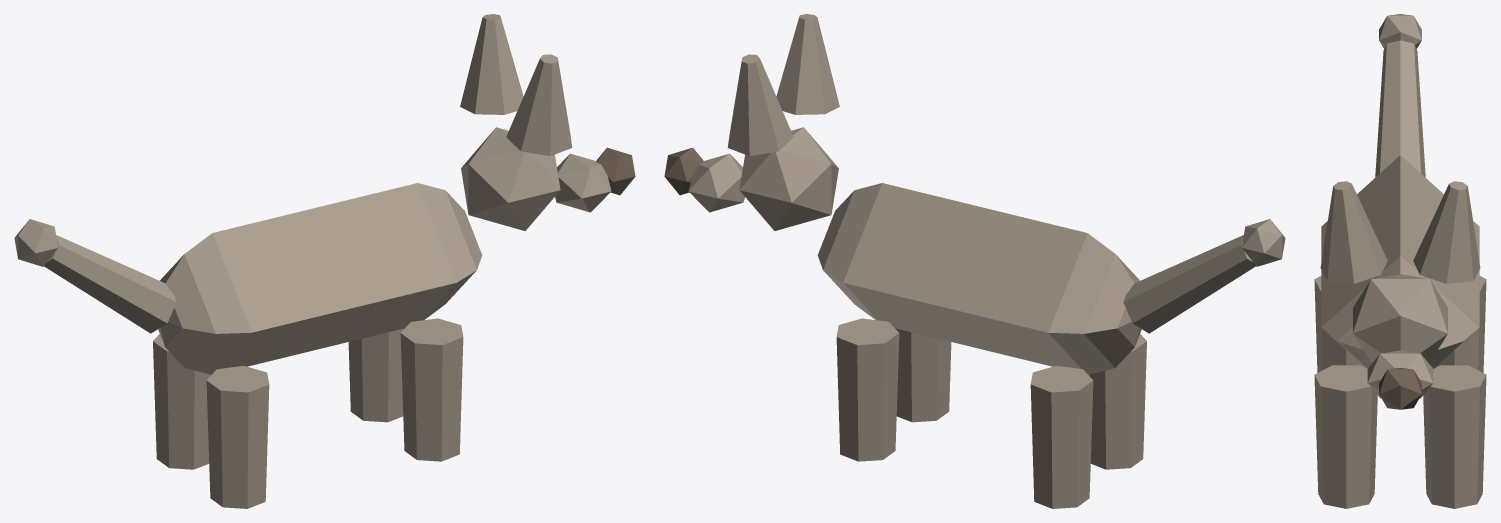
The picture shows the model from 3 angles, left to right: view 1: azimuth 30°, elevation 25°; view 2: azimuth 150°, elevation 25°; view 3: azimuth 270°, elevation 25°; orthographic projection.
Visible parts, largest first — view 1: part0, part12, part10, part2, part11, part7, part9, part4, part3, part5, part8, part6; view 2: part0, part11, part9, part2, part12, part7, part10, part3, part4, part5, part8, part6; view 3: part0, part9, part10, part2, part7, part3, part4, part5, part6, part11, part12, part8.
Boxes of the visible parts, x1,y1,x2,y2 form: part0: (158, 183, 482, 374); part12: (206, 365, 269, 508); part10: (400, 318, 463, 461); part2: (461, 127, 560, 230); part11: (153, 334, 210, 469); part7: (44, 235, 176, 333); part9: (348, 328, 404, 422); part4: (506, 54, 572, 156); part3: (460, 14, 523, 114); part5: (555, 153, 611, 212); part8: (14, 219, 58, 266); part6: (596, 147, 635, 195); part0: (817, 183, 1141, 374); part11: (1030, 365, 1093, 508); part9: (836, 318, 899, 461); part2: (739, 127, 838, 230); part12: (1089, 334, 1146, 469); part7: (1123, 235, 1255, 333); part10: (895, 328, 951, 422); part3: (727, 54, 793, 156); part4: (776, 14, 839, 114); part5: (688, 153, 744, 212); part8: (1241, 219, 1285, 266); part6: (664, 147, 703, 195); part0: (1321, 155, 1479, 368); part9: (1423, 365, 1486, 508); part10: (1314, 365, 1377, 508); part2: (1353, 274, 1447, 362); part7: (1375, 40, 1425, 177); part3: (1413, 181, 1480, 283); part4: (1320, 181, 1387, 283); part5: (1367, 350, 1433, 398); part6: (1379, 368, 1421, 409); part11: (1435, 276, 1486, 372); part12: (1314, 276, 1365, 372); part8: (1379, 14, 1421, 48).
Bounding box in the file's own units: 3.7 × 2.11 × 0.8915.
